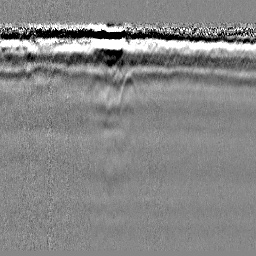cavity: (118, 71, 137, 106)
